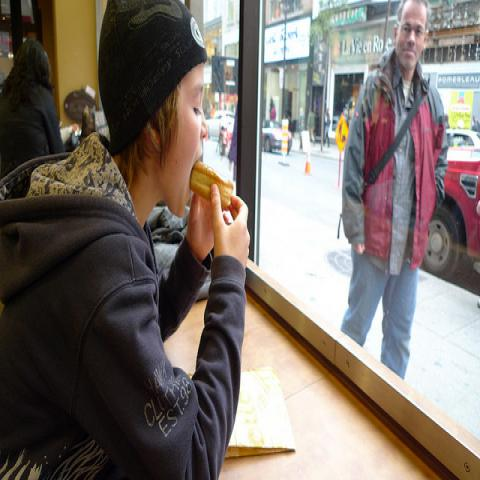car: (419, 129, 480, 288), (206, 110, 236, 142), (264, 118, 293, 151), (219, 114, 235, 156)
